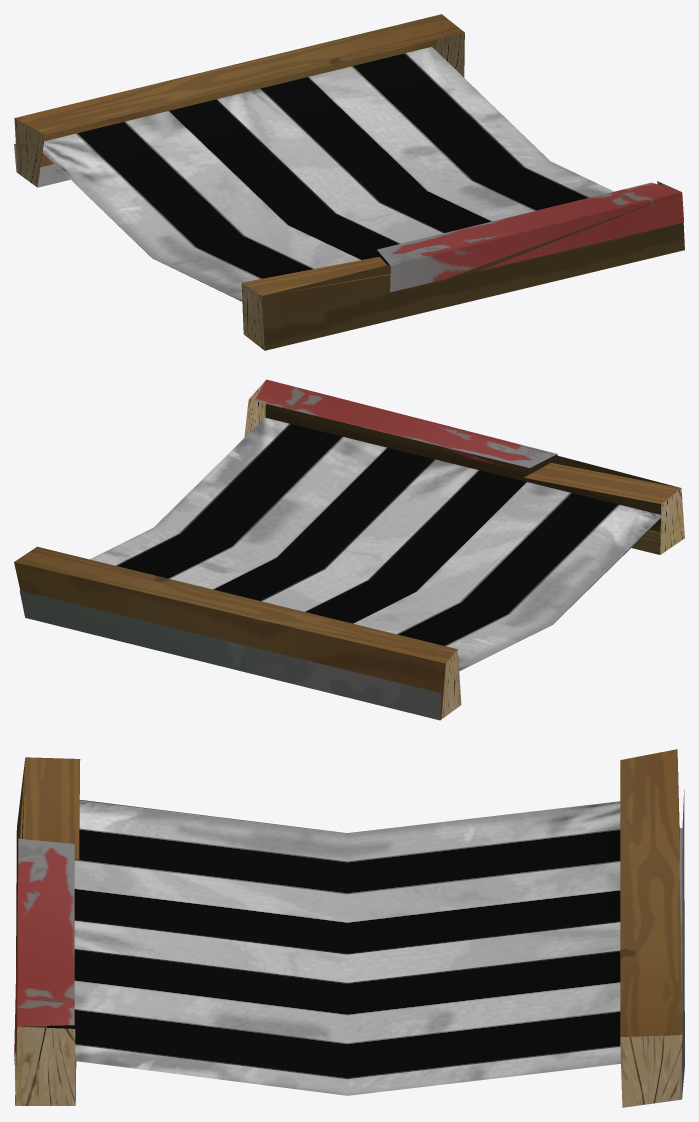
Rendered from obj_manmade_scraproof01_lod1.fbx.
3 views of the same model, one above another, from view 1: azimuth 30°, elevation 25°; view 2: azimuth 150°, elevation 25°; view 3: azimuth 270°, elevation 25° (orthographic). The views are drawn at different scales.
Visible parts, largest first — view 1: obj_manmade_scraproof_lod1; view 2: obj_manmade_scraproof_lod1; view 3: obj_manmade_scraproof_lod1.
Part boxes in pixels (box(x1,y1,x2,y2)): obj_manmade_scraproof_lod1: box(14, 14, 684, 350); obj_manmade_scraproof_lod1: box(14, 379, 684, 720); obj_manmade_scraproof_lod1: box(14, 749, 684, 1107).
Size of the model in its own units: 8.01 by 1.03 by 8.02.
